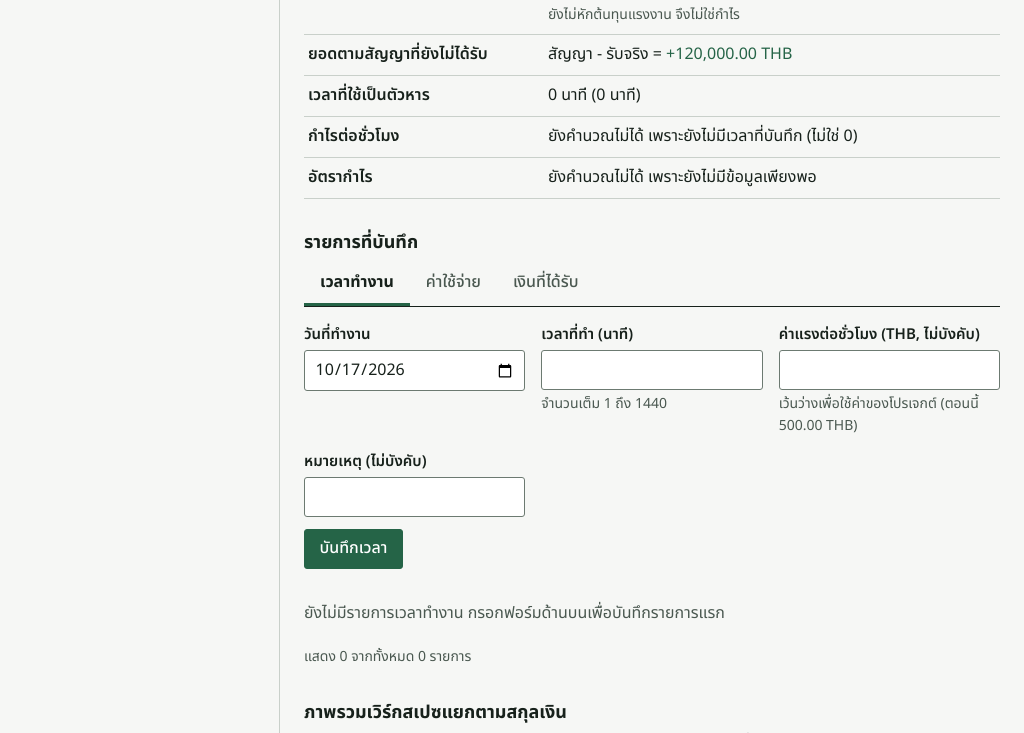
Scenario: ProfitApp › confirms before deleting an entry
The width and height of the screenshot is (1024, 733).
(page scrolled)
Type "90" into the field labelled "เวลาที่ทำ (นาที)" at (652, 370), box [541,350,763,390]
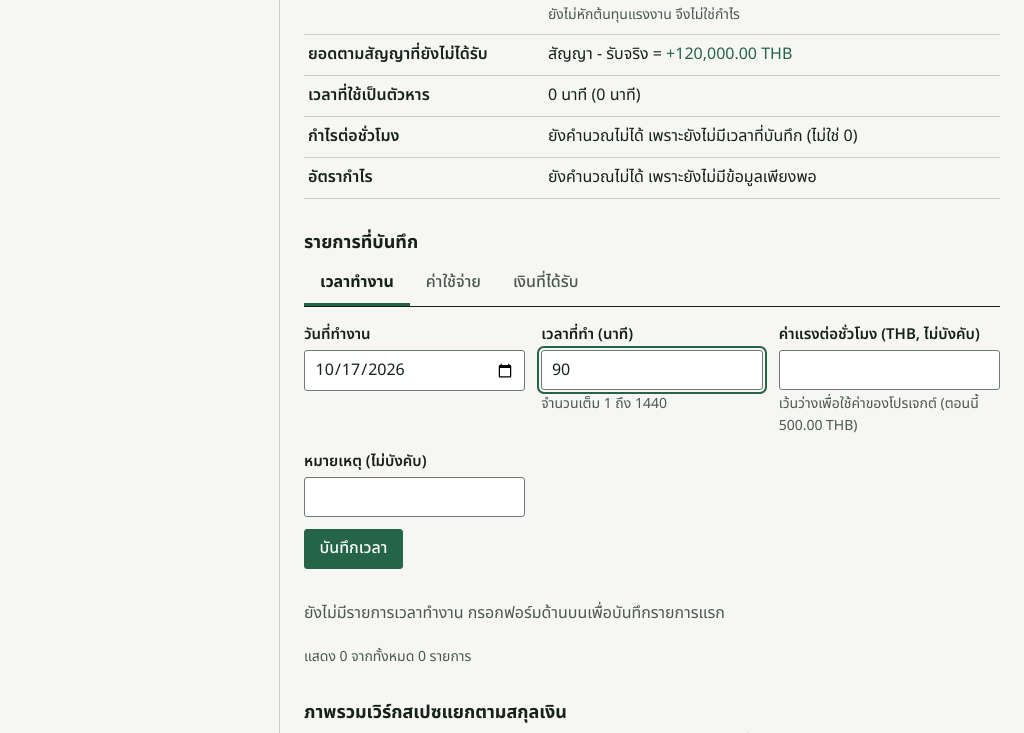
Click the button "บันทึกเวลา" at (353, 549), box [304,529,403,569]
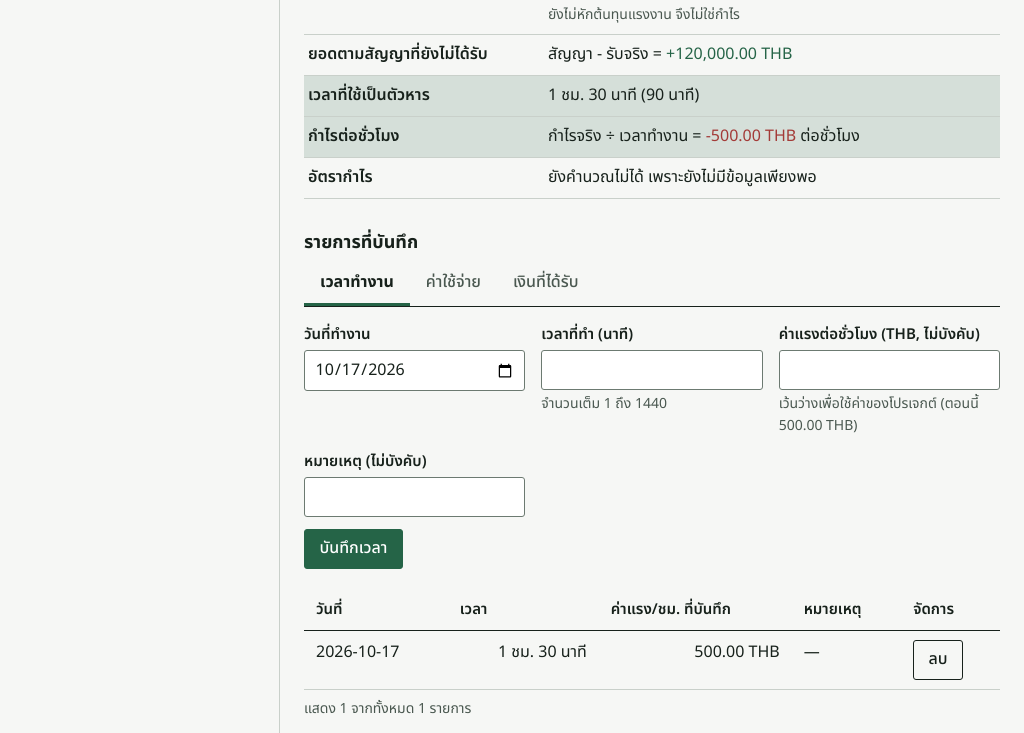
Now the text "1 ชม. 30 นาที" is shown, box [448,631,599,689]
Click the button with aria-label "ลบรายการเวลาทำงาน" at (938, 660), box [913,640,963,680]
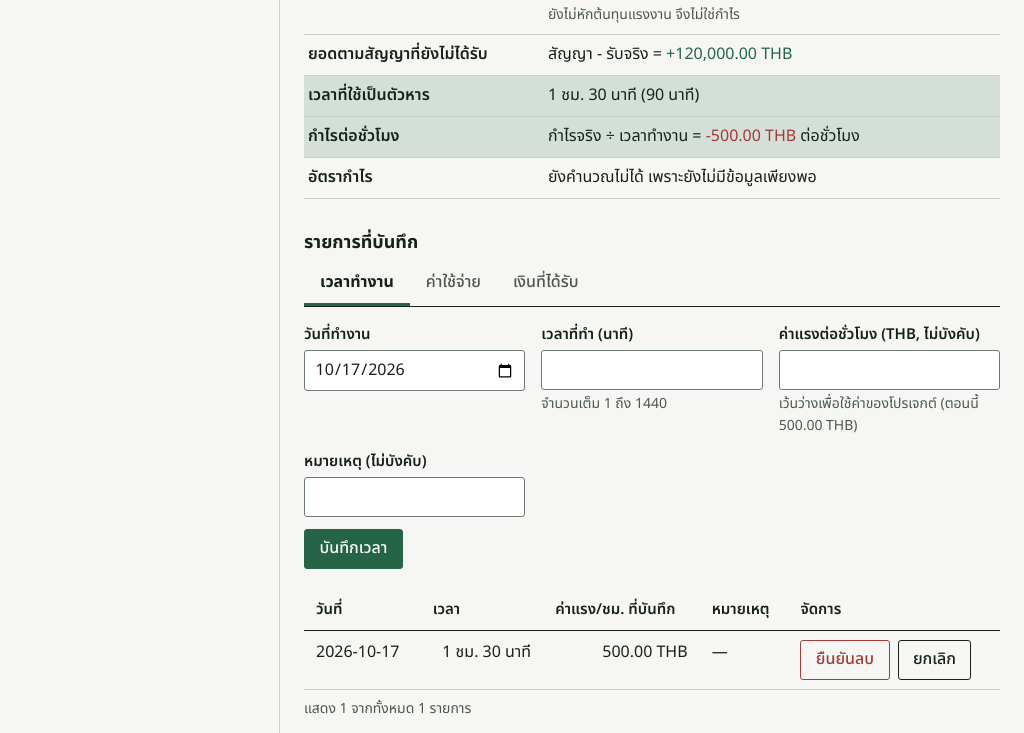
Click the button "ยืนยันลบ" at (845, 660), box [800,640,890,680]
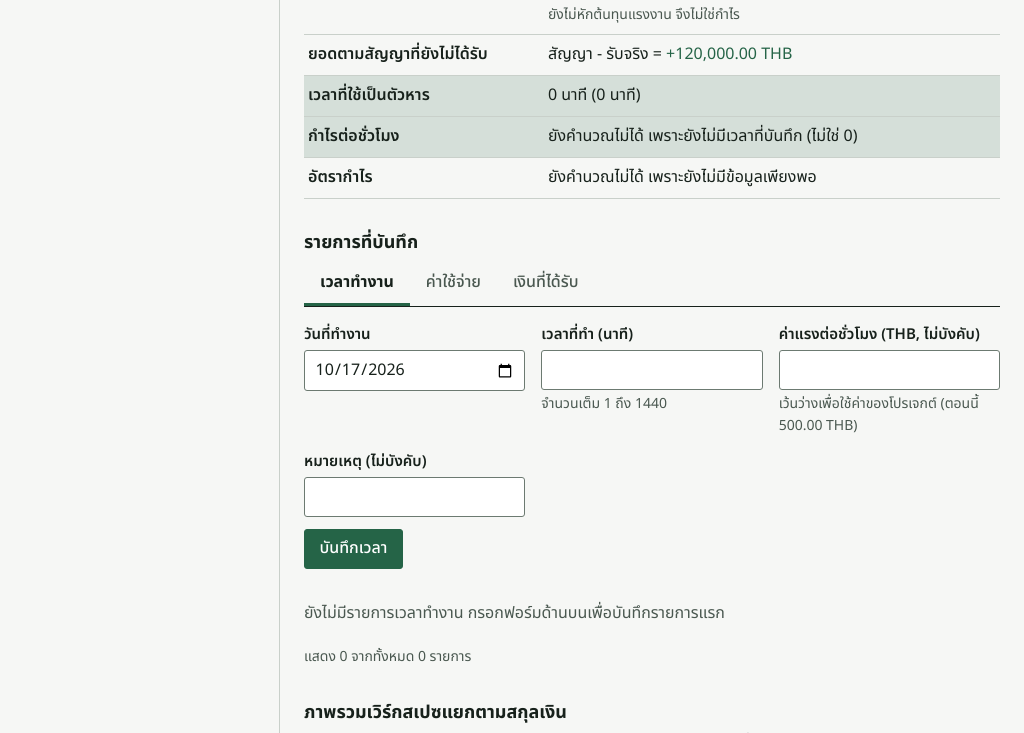
Now the text "ยังไม่มีรายการเวลาทำงาน กรอกฟอร์มด้านบนเพื่อบันทึกรายการแรก" is shown, box [304,601,725,625]
